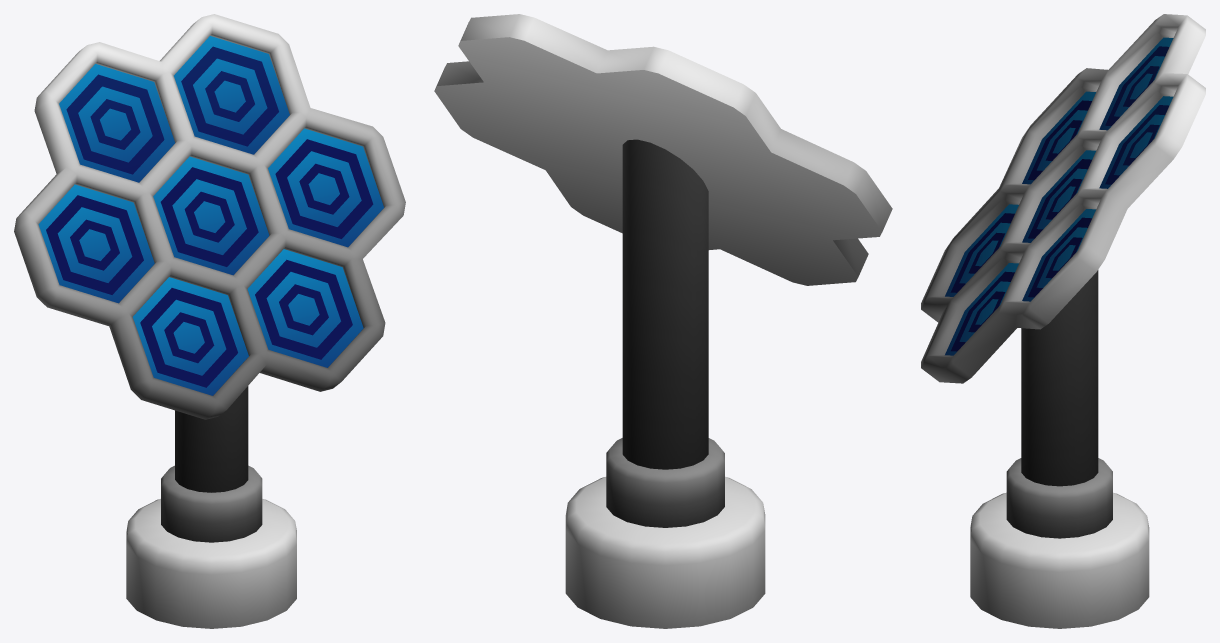
File: Solar_Panel_02.fbx
The picture shows the model from 3 angles, left to right: view 1: azimuth 30°, elevation 25°; view 2: azimuth 150°, elevation 25°; view 3: azimuth 270°, elevation 25°; orthographic projection. The views are drawn at different scales.
Visible parts, largest first — view 1: Solar_Panel_02; view 2: Solar_Panel_02; view 3: Solar_Panel_02.
Boxes of the visible parts, left/top/right/bottom form: Solar_Panel_02: left=14, top=14, right=405, bottom=628; Solar_Panel_02: left=434, top=14, right=892, bottom=628; Solar_Panel_02: left=921, top=14, right=1205, bottom=628.
Bounding box in the file's own units: 241 × 331 × 157.
